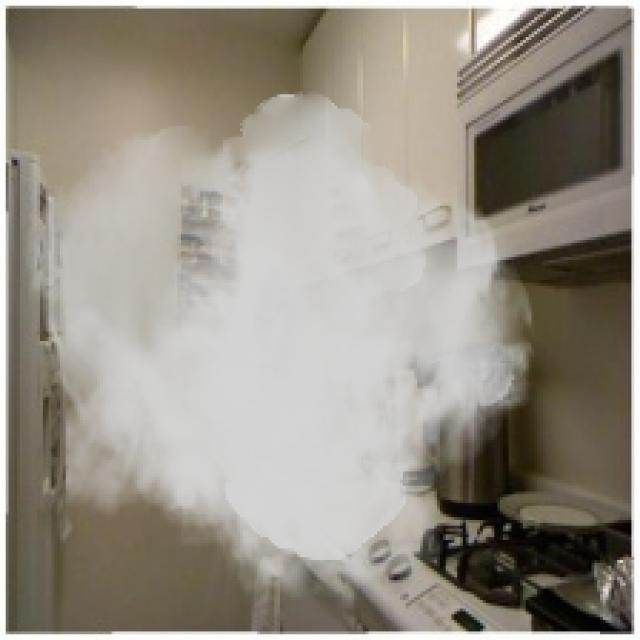smoke: (20, 91, 540, 614)
